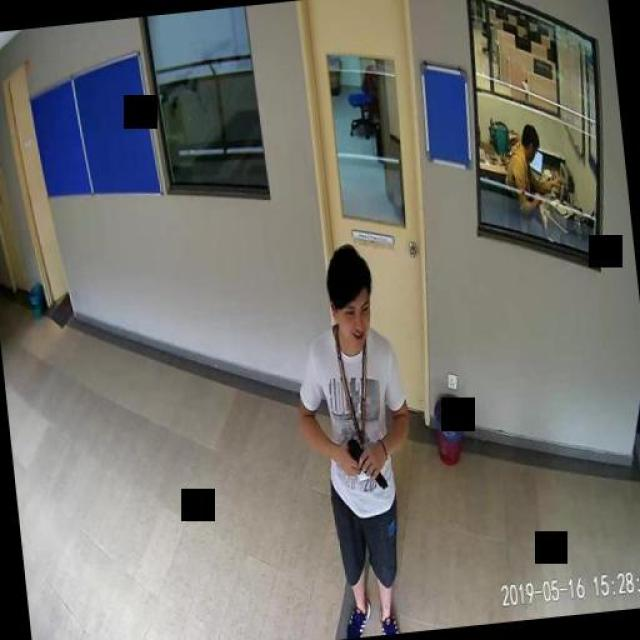gun: (344, 435, 385, 491)
